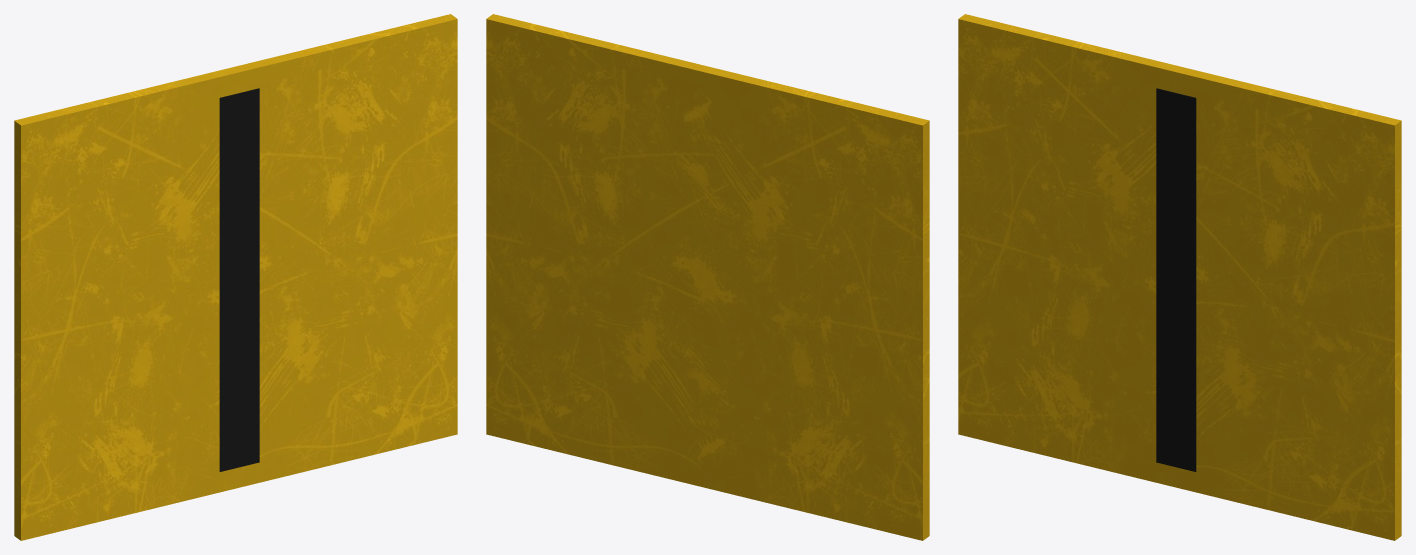
Rendered from crane_hatch.glb.
3 renders of one model, left to right at view 1: azimuth 30°, elevation 25°; view 2: azimuth 150°, elevation 25°; view 3: azimuth 330°, elevation 25°, orthographic.
Visible parts, largest first — view 1: crane_hatch; view 2: crane_hatch; view 3: crane_hatch.
Boxes of the visible parts, x1,y1,x2,y2 form: crane_hatch: [14, 14, 457, 540]; crane_hatch: [486, 14, 929, 540]; crane_hatch: [958, 14, 1401, 540].
Size of the model in its own units: 1.1 by 1 by 0.032.
2 materials, 1 textured.
